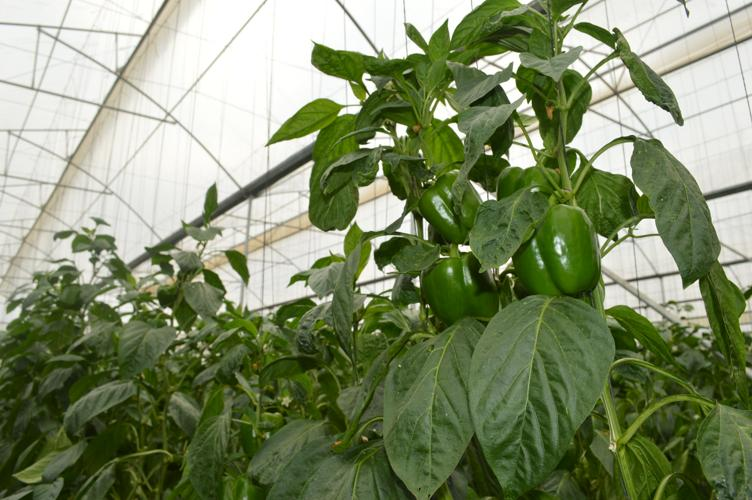BellPepper: (510, 204, 595, 297), (425, 256, 494, 321), (426, 170, 476, 238), (494, 163, 557, 204)
